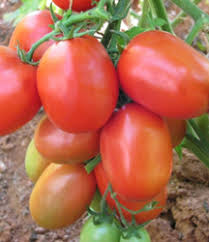tomato: (36, 38, 122, 129), (112, 44, 209, 118), (104, 112, 175, 197)
